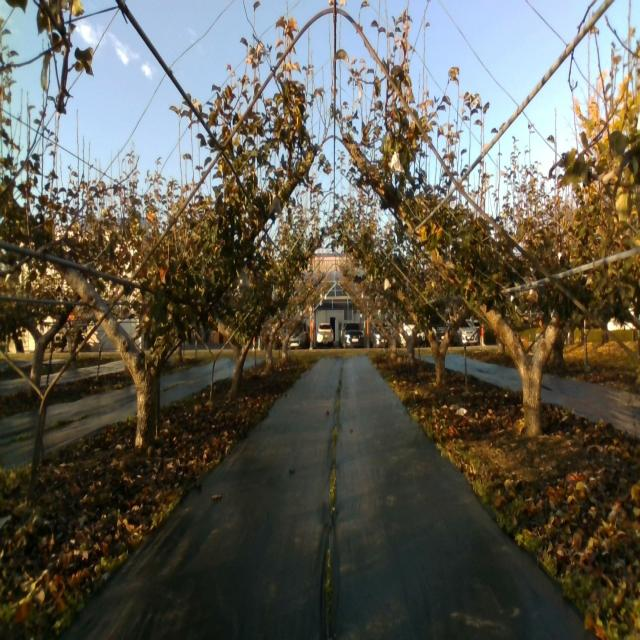pearbags: (389, 151, 404, 172)
